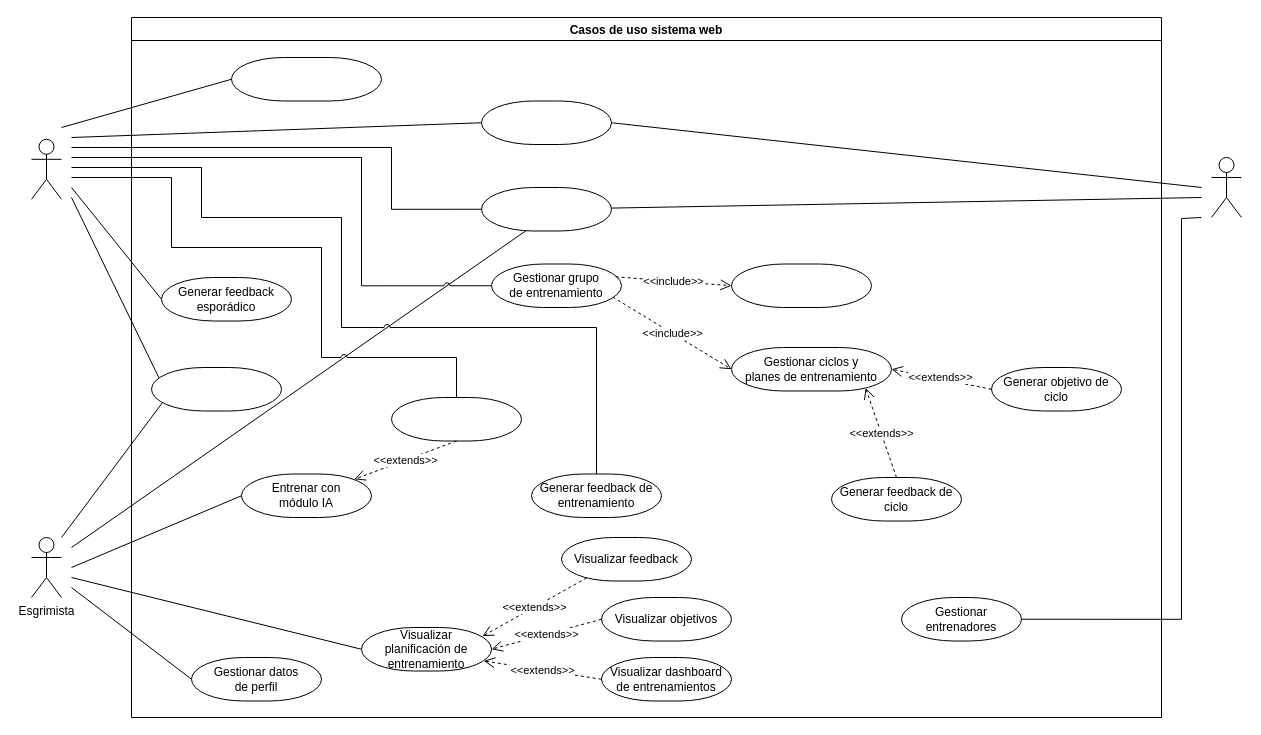
Some shapes in this 1261 by 735 pixel diagram are drawn without their labels. Each missing label, with the centre of its shape:
Admin: (1226,187)
Administrar miembros de grupos: (801,285)
Consultar datos de perfil de esgrimista: (216,388)
Entrenador: (46,168)
Generar links de registro: (546,122)
Gestionar errores de AI disponibles: (306,78)
Log in/Sign up: (546,208)
Visualizar entrenamientos y feedback: (456,418)
